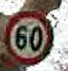limite 60: (4, 9, 54, 64)
